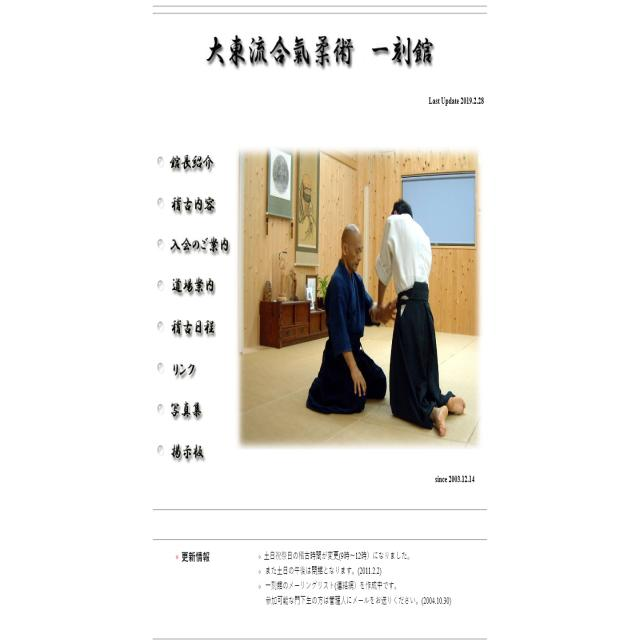heading: (202, 24, 448, 80)
image: (238, 146, 484, 452)
text: (254, 547, 456, 609), (164, 273, 227, 300), (168, 236, 232, 262), (164, 439, 220, 467), (164, 394, 226, 418), (162, 356, 215, 382), (164, 151, 221, 172), (165, 194, 217, 215), (168, 320, 224, 339), (428, 95, 488, 110), (172, 545, 217, 564), (434, 472, 477, 485)
